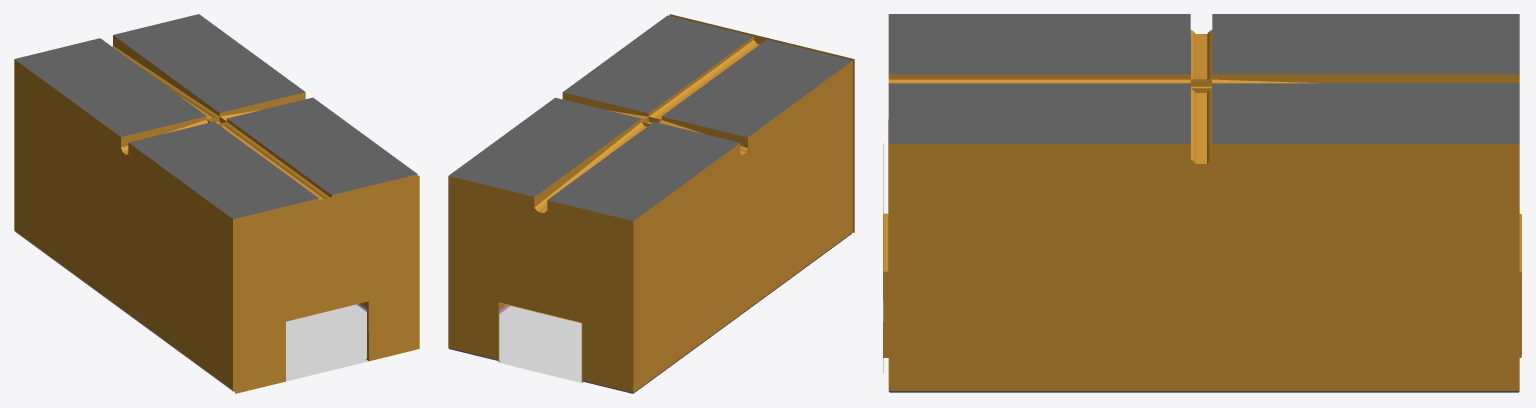
File: bigHall1.fbx
3 renders of one model, left to right at view 1: azimuth 30°, elevation 25°; view 2: azimuth 150°, elevation 25°; view 3: azimuth 270°, elevation 25°, orthographic. The views are drawn at different scales.
Visible parts, largest first — view 1: Plane; view 2: Plane; view 3: Plane.
Part boxes in pixels (x1,y1,x2,y2): Plane: (14,14,419,393); Plane: (448,14,854,393); Plane: (883,14,1521,392).
Bounding box in the file's own units: 1450 × 1300 × 3012.
